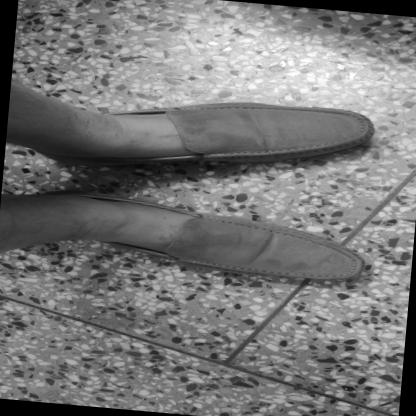ankle: (117, 204, 125, 208), (131, 159, 137, 163)
heel: (57, 158, 63, 162), (61, 192, 67, 195)
left_foot: (33, 84, 379, 193)
pinky: (307, 109, 318, 114), (302, 275, 308, 279)
right_foot: (37, 188, 370, 286)
toe: (337, 251, 347, 255), (349, 139, 356, 144)
